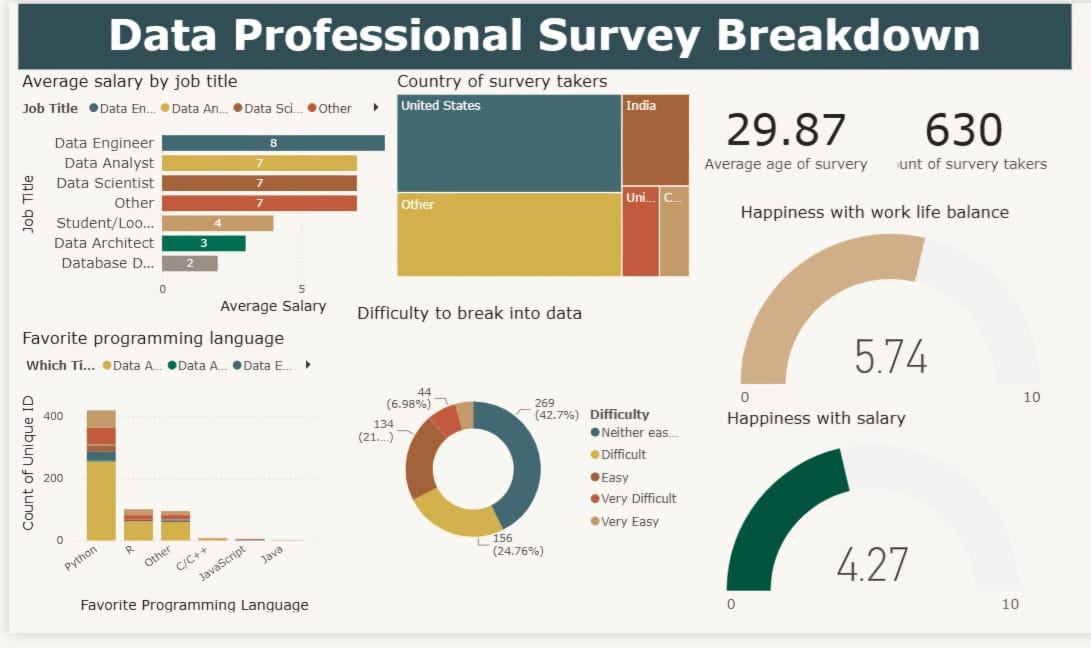

Layout of this report page (visuals, bound fields, positions):
{"tool":"powerbi","page":{"name":"Page 1","canvas":[1280,720],"ordinal":0},"visuals":[{"type":"textbox","box":[10,0,1205.6,76.7],"z":0},{"type":"textbox","box":[10,290,280,280],"z":1000},{"type":"card","fields":{"Values":["Count(Data Professional Survey.Unique ID)"]},"box":[986.7,76.7,210,150],"z":2000},{"type":"card","fields":{"Values":["Avg(Data Professional Survey.Q10 - Current Age)"]},"box":[761.1,76.7,254.4,150],"z":3000},{"type":"barChart","title":"Average salary by job title","fields":{"Category":["Data Professional Survey.Q1 - Which Title Best Fits your Current Role?.1"],"Y":["Count(Data Professional Survey.Average salary)"],"Series":["Data Professional Survey.Q1 - Which Title Best Fits your Current Role?.1"]},"box":[10,76.7,428.9,283.3],"z":4000},{"type":"columnChart","title":"Favorite programming language","fields":{"Category":["Data Professional Survey.Q5 - Favorite Programming Language.1"],"Y":["CountNonNull(Data Professional Survey.Unique ID)"],"Series":["Data Professional Survey.Q1 - Which Title Best Fits your Current Role?.1"]},"box":[10,371.1,347.8,330],"z":5000},{"type":"treemap","title":"Country of survery takers","fields":{"Group":["Data Professional Survey.Q11 - Which Country do you live in?.1"],"Values":["CountNonNull(Data Professional Survey.Q11 - Which Country do you live in?.1)"]},"box":[438.9,76.7,344.4,241.1],"z":6000},{"type":"gauge","title":"Happiness with work life balance","fields":{"Y":["Avg(Data Professional Survey.Q6 - How Happy are you in your Current Position with the following? (Work/Life Balance))"],"MinValue":["Min(Data Professional Survey.Q6 - How Happy are you in your Current Position with the following? (Work/Life Balance))"],"MaxValue":["Max(Data Professional Survey.Q6 - How Happy are you in your Current Position with the following? (Work/Life Balance))"]},"box":[831.1,226.7,353.3,252.2],"z":7000},{"type":"gauge","title":"Happiness with salary","fields":{"Y":["Avg(Data Professional Survey.Q6 - How Happy are you in your Current Position with the following? (Salary))"],"MinValue":["Min(Data Professional Survey.Q6 - How Happy are you in your Current Position with the following? (Salary))"],"MaxValue":["Max(Data Professional Survey.Q6 - How Happy are you in your Current Position with the following? (Salary))"]},"box":[815.6,462.2,344.4,257.8],"z":8000},{"type":"donutChart","title":"Difficulty to break into data","fields":{"Category":["Data Professional Survey.Q7 - How difficult was it for you to break into Data?"],"Y":["CountNonNull(Data Professional Survey.Q7 - How difficult was it for you to break into Data?)"]},"box":[392.2,343.3,391.1,357.8],"z":9000}]}

Visuals, with their boxes on the page's 1280x720 design canvas (x1, y1, x2, y2). These are canvas units, not pixel positions in the 1091x648 screenshot, which may show the page scaled, cropped or inside an application window:
textbox: <box>10,0,1216,77</box>
textbox: <box>10,290,290,570</box>
card - Count(Data Professional Survey.Unique ID): <box>987,77,1197,227</box>
card - Avg(Data Professional Survey.Q10 - Current Age): <box>761,77,1016,227</box>
"Average salary by job title" barChart: <box>10,77,439,360</box>
"Favorite programming language" columnChart: <box>10,371,358,701</box>
"Country of survery takers" treemap: <box>439,77,783,318</box>
"Happiness with work life balance" gauge: <box>831,227,1184,479</box>
"Happiness with salary" gauge: <box>816,462,1160,720</box>
"Difficulty to break into data" donutChart: <box>392,343,783,701</box>
